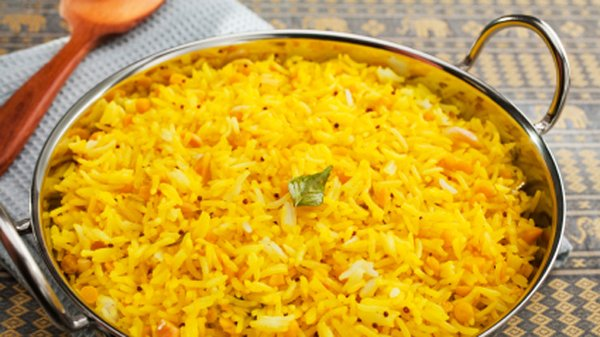curry: (288, 166, 334, 206)
sushi: (7, 29, 562, 333)
